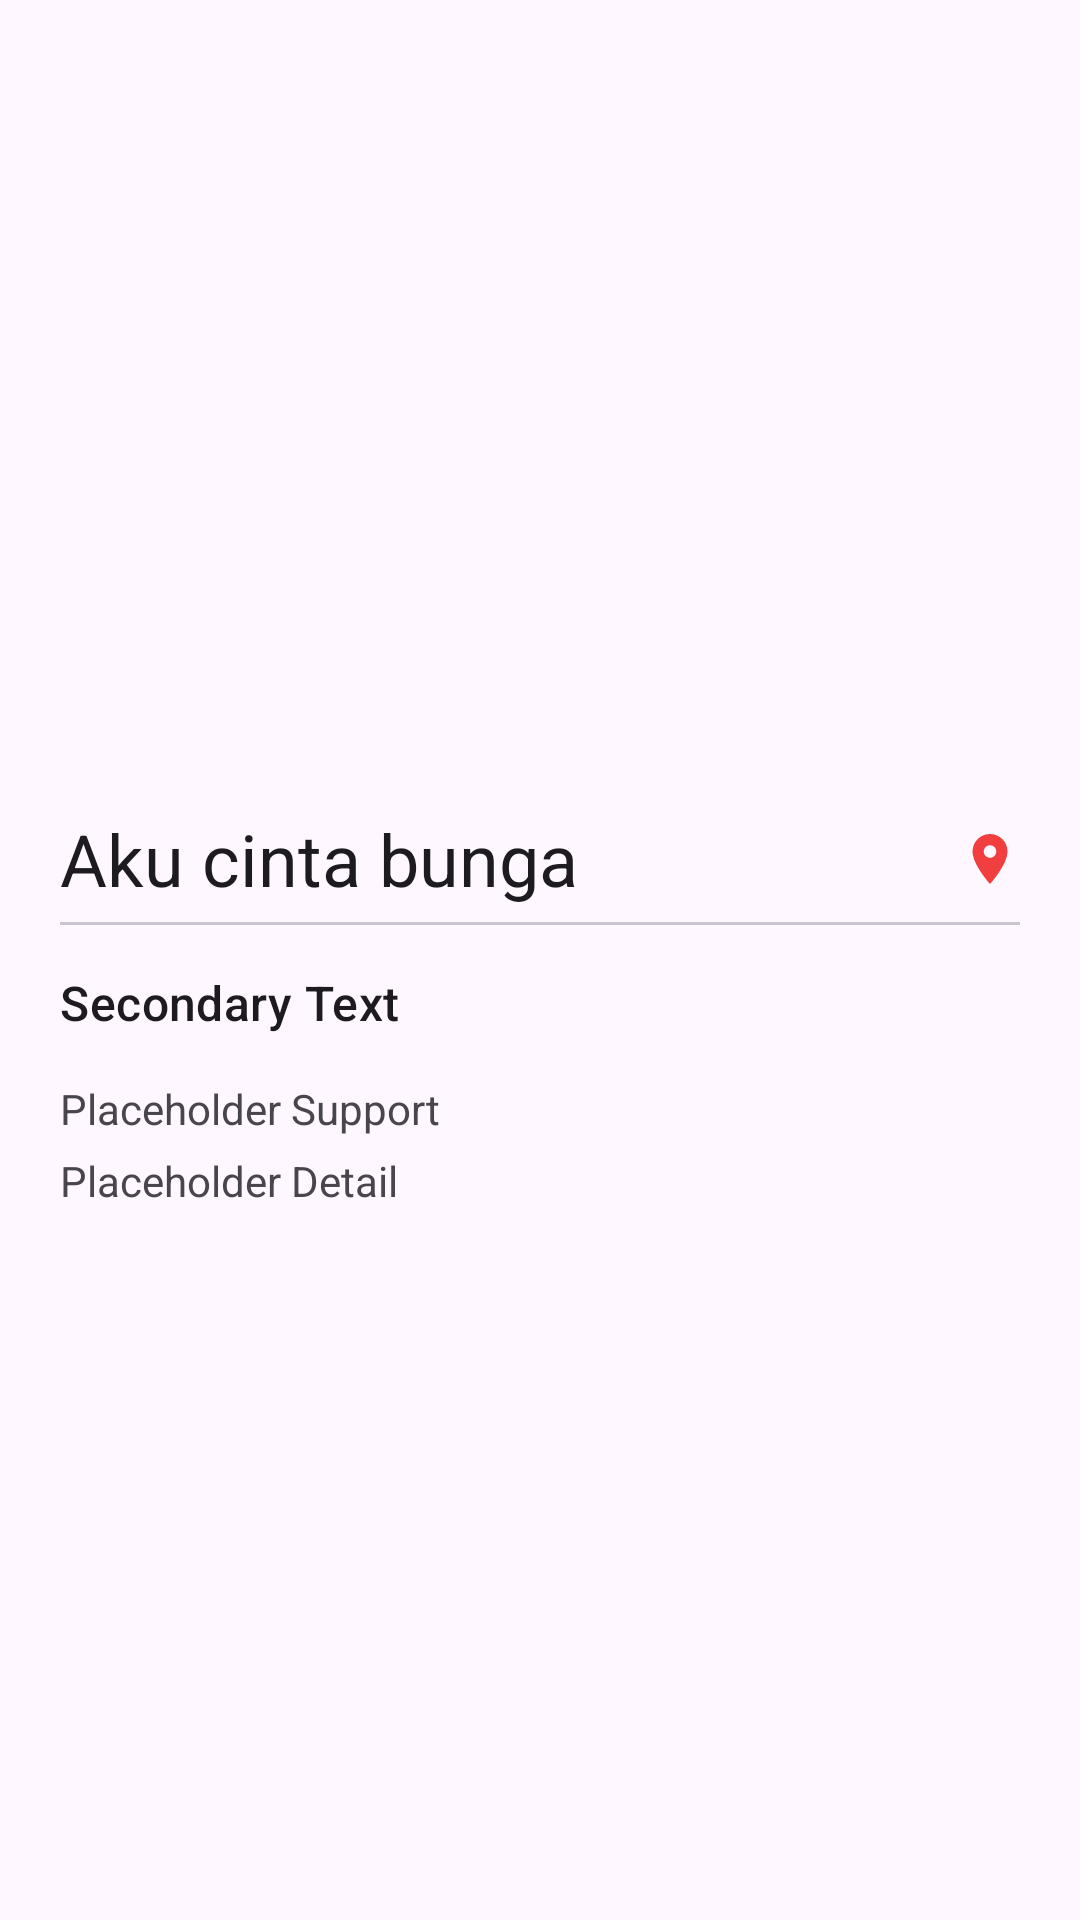

Where icons sit on this 1080 x 1920 app screen, as {"left": x1, "top": y1, "right": x2, "bottom": y2}:
location: {"left": 972, "top": 834, "right": 1008, "bottom": 884}
